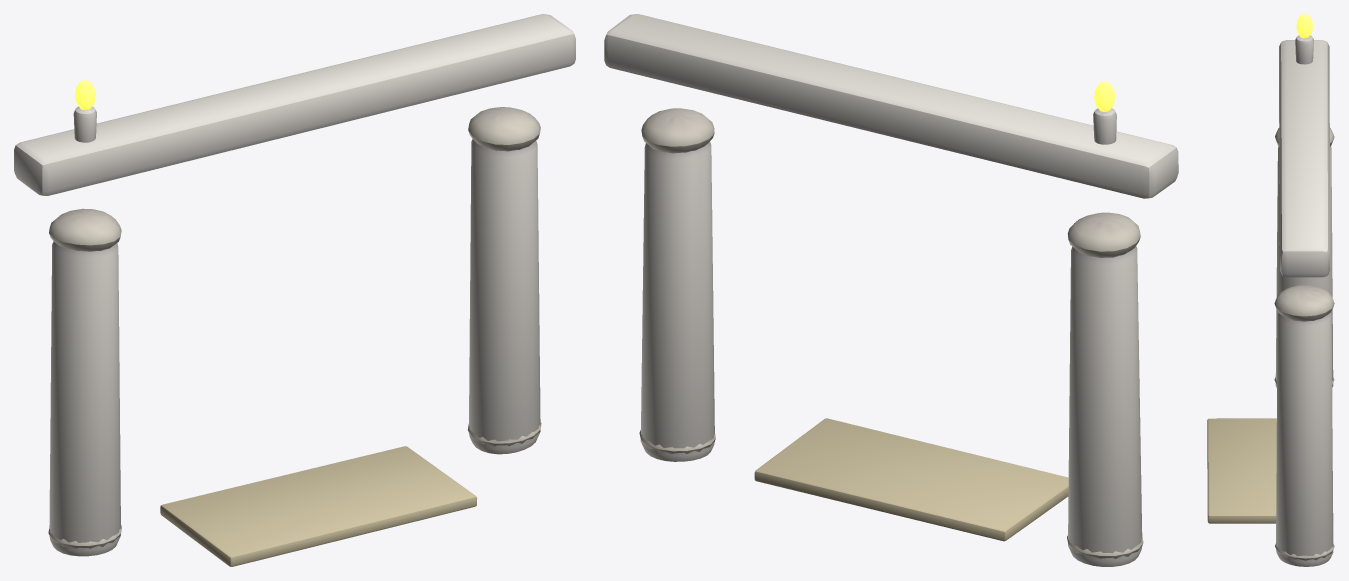
3 renders of one model, left to right at view 1: azimuth 30°, elevation 25°; view 2: azimuth 150°, elevation 25°; view 3: azimuth 270°, elevation 25°, orthographic. The views are drawn at different scales.
Visible parts, largest first — view 1: gate_df2feee1; view 2: gate_df2feee1; view 3: gate_df2feee1.
Part boxes in pixels (left/top/right/bottom): gate_df2feee1: left=14, top=14, right=575, bottom=566; gate_df2feee1: left=604, top=14, right=1178, bottom=566; gate_df2feee1: left=1207, top=14, right=1334, bottom=566.
Bounding box in the file's own units: 5.23 × 4.31 × 1.32.
